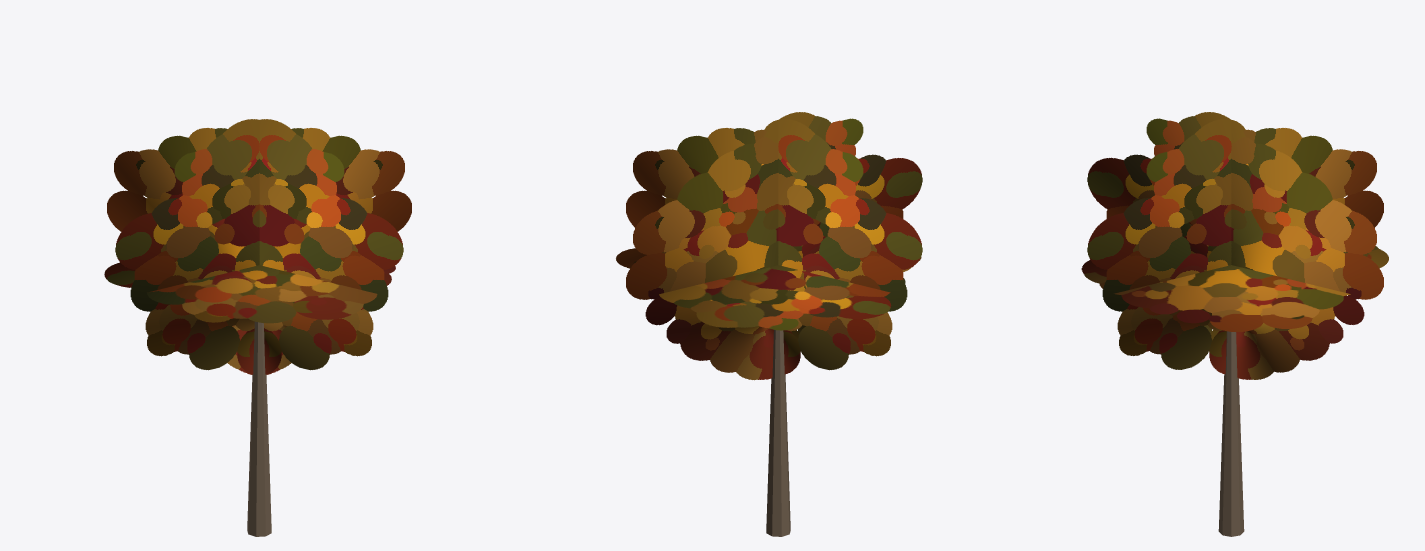
Rendered from broadleaf_s_autumn.glb.
The picture shows the model from 3 angles, left to right: view 1: azimuth 30°, elevation 25°; view 2: azimuth 150°, elevation 25°; view 3: azimuth 270°, elevation 25°; orthographic projection.
Parts seen in each view (by area): view 1: broadleaf_s_autumn; view 2: broadleaf_s_autumn; view 3: broadleaf_s_autumn.
Part boxes in pixels (<box>): broadleaf_s_autumn: <box>104,119,411,536</box>; broadleaf_s_autumn: <box>616,112,922,536</box>; broadleaf_s_autumn: <box>1081,112,1388,536</box>.
Bounding box in the file's own units: 5 × 6 × 4.5.
2 materials, 1 textured.
